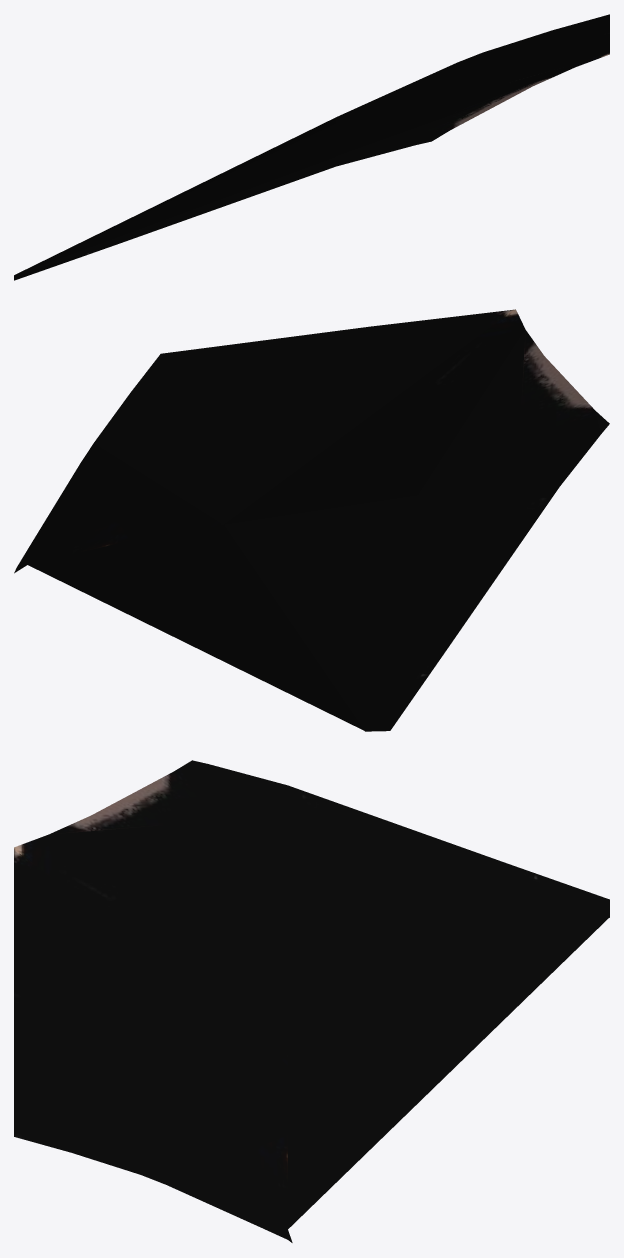
The picture shows the model from 3 angles, top to bottom: view 1: azimuth 90°, elevation 25°; view 2: azimuth 150°, elevation 25°; view 3: azimuth 270°, elevation 25°; orthographic projection. The views are drawn at different scales.
Size of the model in its own units: 3.35 by 1.43 by 3.35.
2 materials, 2 textured.
